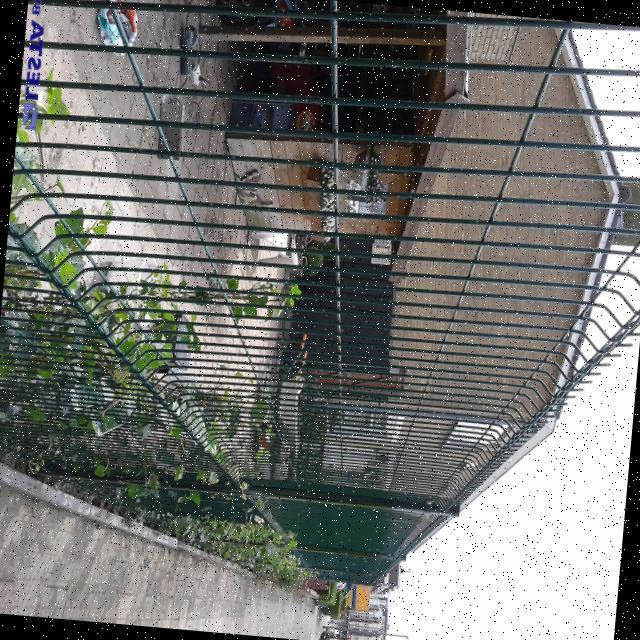fence line: (1, 0, 639, 355), (0, 214, 528, 503), (229, 449, 434, 597)
